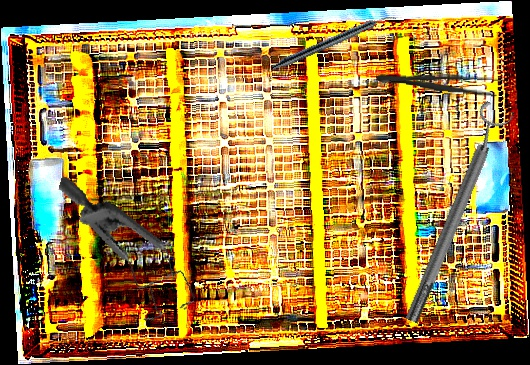Dressing Forceps: (375, 67, 508, 99)
Fixation Ring: (392, 99, 518, 328)
Handpiece: (270, 9, 397, 75)
Speculum: (30, 176, 217, 332)
